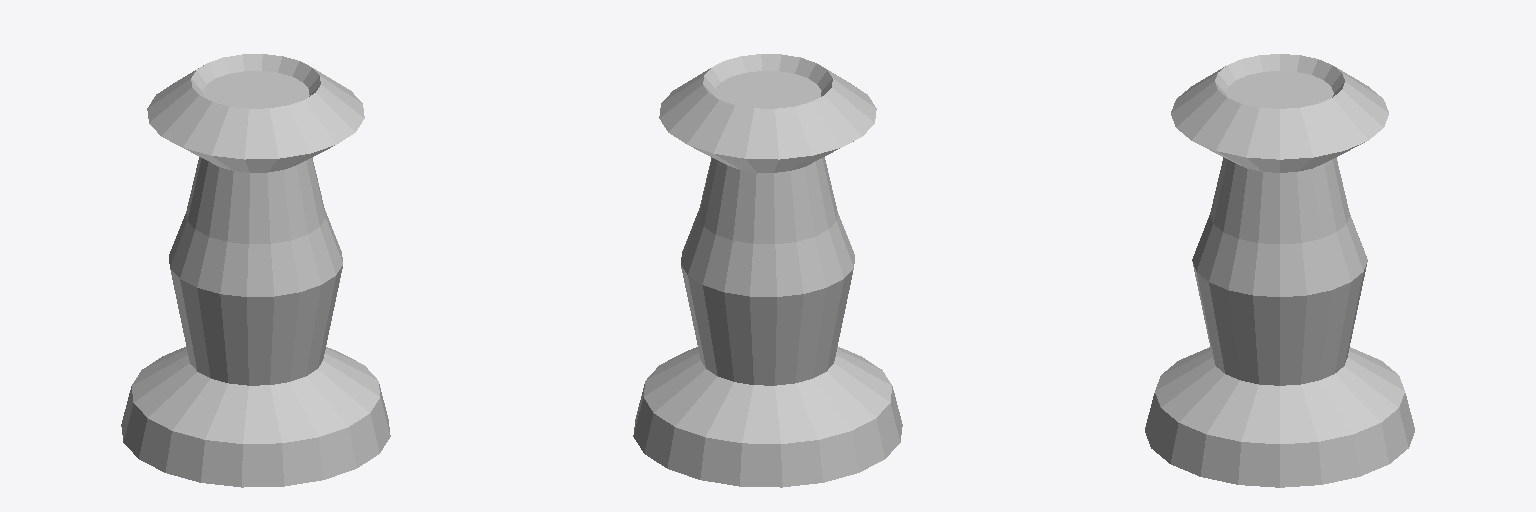
The model's file is chess.obj.
3 views of the same model, side by side, from view 1: azimuth 30°, elevation 25°; view 2: azimuth 150°, elevation 25°; view 3: azimuth 270°, elevation 25° (orthographic).
Visible parts, largest first — view 1: chess; view 2: chess; view 3: chess.
Part boxes in pixels (left/top/right/bottom): chess: left=121, top=54, right=390, bottom=487; chess: left=633, top=54, right=902, bottom=487; chess: left=1145, top=54, right=1414, bottom=487.
Size of the model in its own units: 3.9 by 5.55 by 3.9.